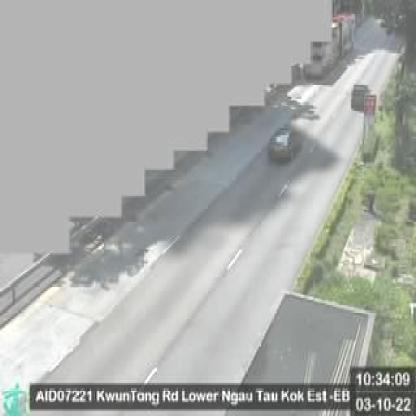Car: (265, 126, 302, 160)
